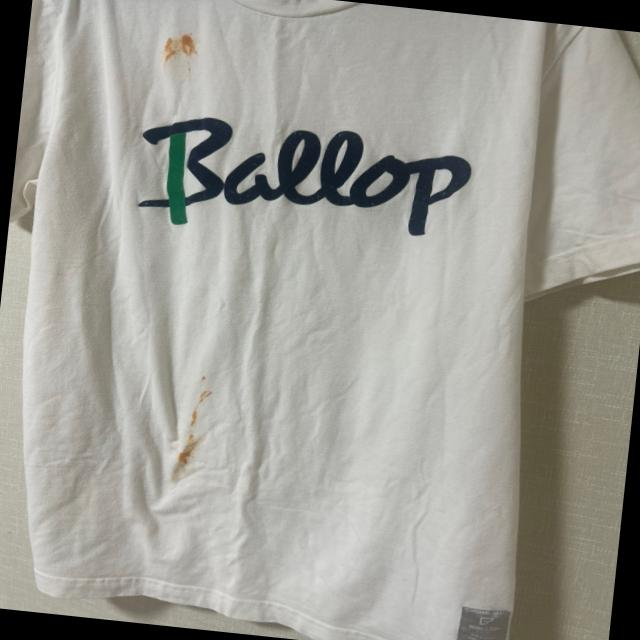stain: (184, 376, 217, 432), (161, 34, 206, 68), (173, 429, 203, 471)
